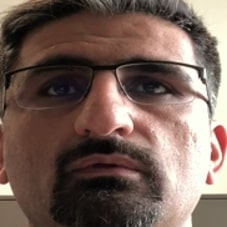awake: (21, 51, 197, 199)
